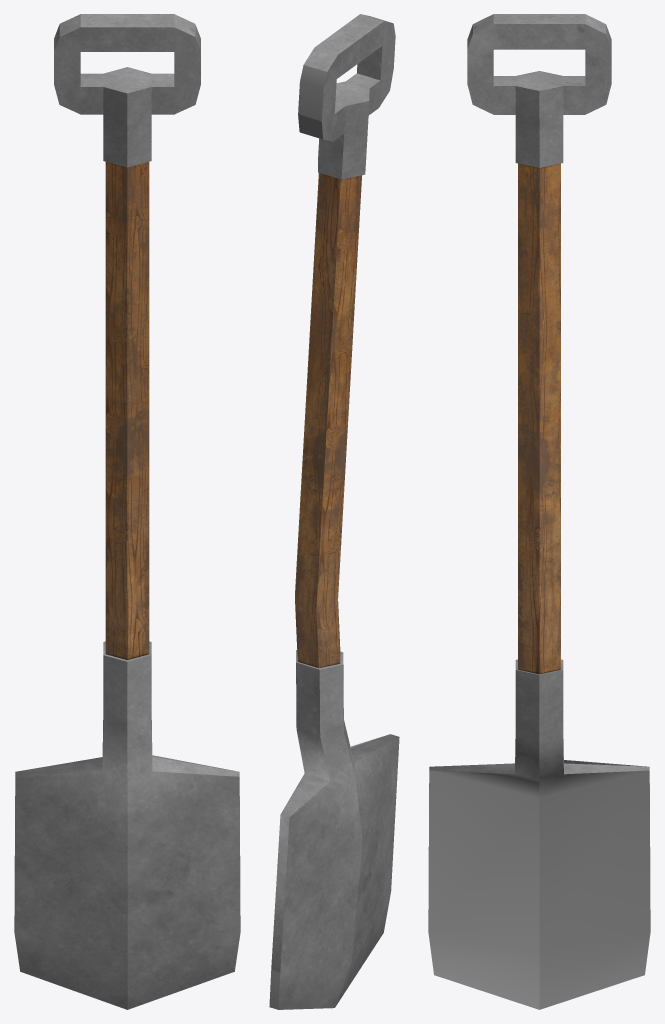
Rendered from low_poly_shovel.glb.
The picture shows the model from 3 angles, left to right: view 1: azimuth 90°, elevation 25°; view 2: azimuth 150°, elevation 25°; view 3: azimuth 270°, elevation 25°; orthographic projection.
Parts seen in each view (by area): view 1: shovel_head, shovel_body, handle; view 2: shovel_head, shovel_body, handle; view 3: shovel_head, shovel_body, handle.
Part boxes in pixels (box(x1,y1,x2,y2)): shovel_head: box(14, 641, 240, 1009); shovel_body: box(105, 162, 149, 659); handle: box(54, 14, 200, 167); shovel_head: box(269, 650, 399, 1009); shovel_body: box(295, 173, 361, 668); handle: box(298, 14, 395, 179); shovel_head: box(428, 659, 650, 1009); shovel_body: box(518, 163, 560, 674); handle: box(467, 14, 611, 167).
Bounding box in the file's own units: 0.0966 × 1.21 × 0.2495.
Materials: 1 (1 with a texture image).
